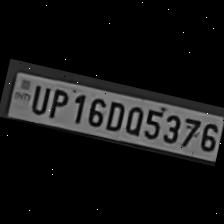1: (63, 88, 88, 124)
3: (158, 109, 183, 144)
5: (140, 103, 164, 139)
6: (195, 117, 222, 153), (82, 92, 108, 128)
7: (177, 113, 201, 148)
D: (102, 96, 128, 132)
P: (44, 83, 72, 120)
Q: (120, 100, 146, 136)
U: (24, 80, 50, 114)
